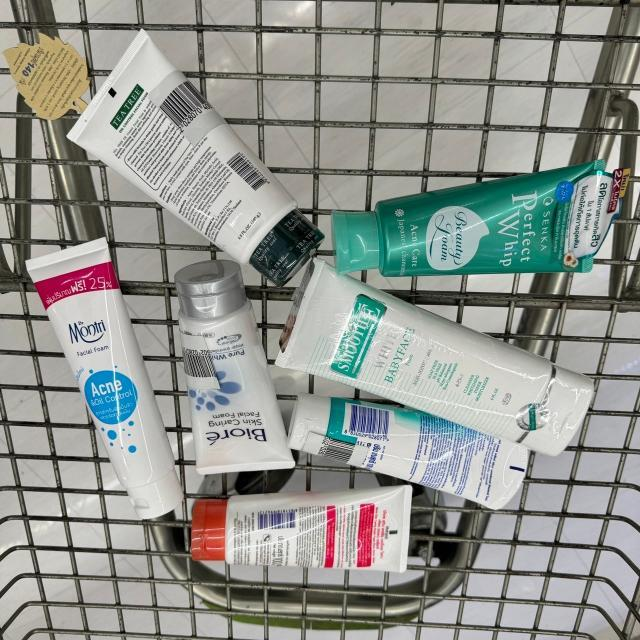Squeeze Tube: (48, 10, 333, 300), (273, 254, 602, 462), (14, 244, 193, 524), (154, 233, 300, 487), (290, 378, 540, 518), (323, 192, 616, 278), (187, 490, 416, 577)
